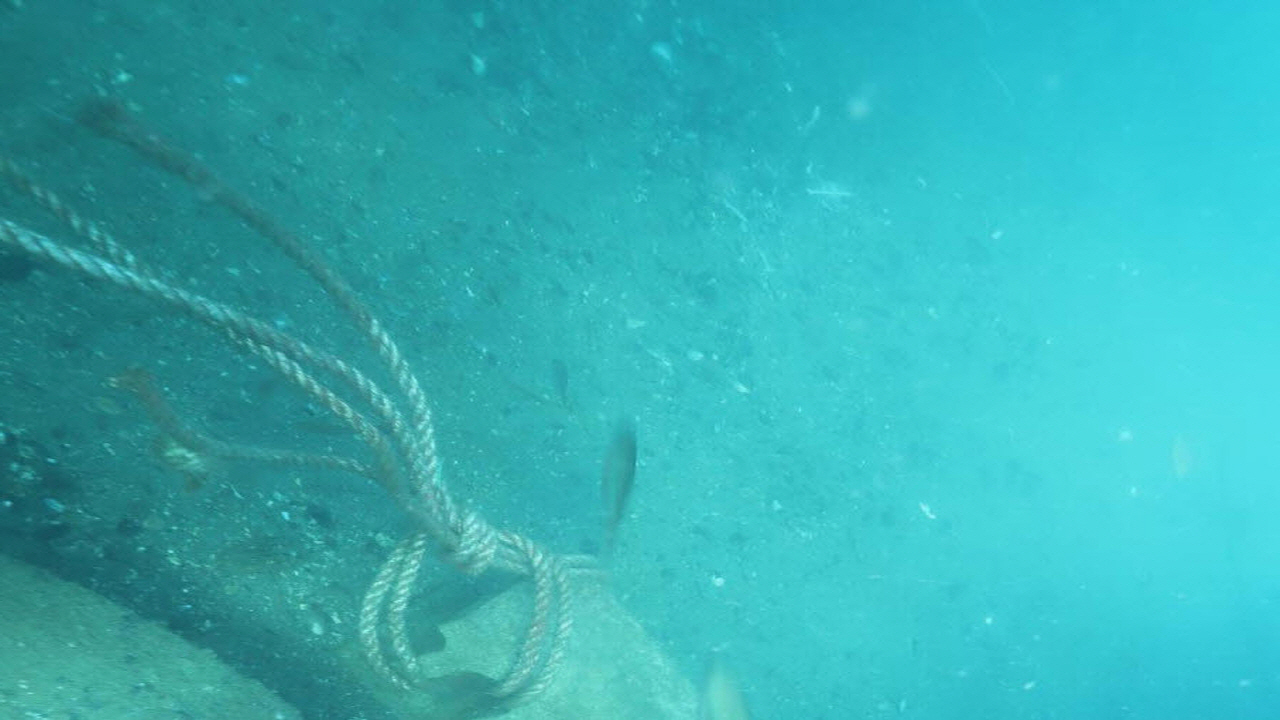bundle of ropes: (0, 109, 600, 712)
